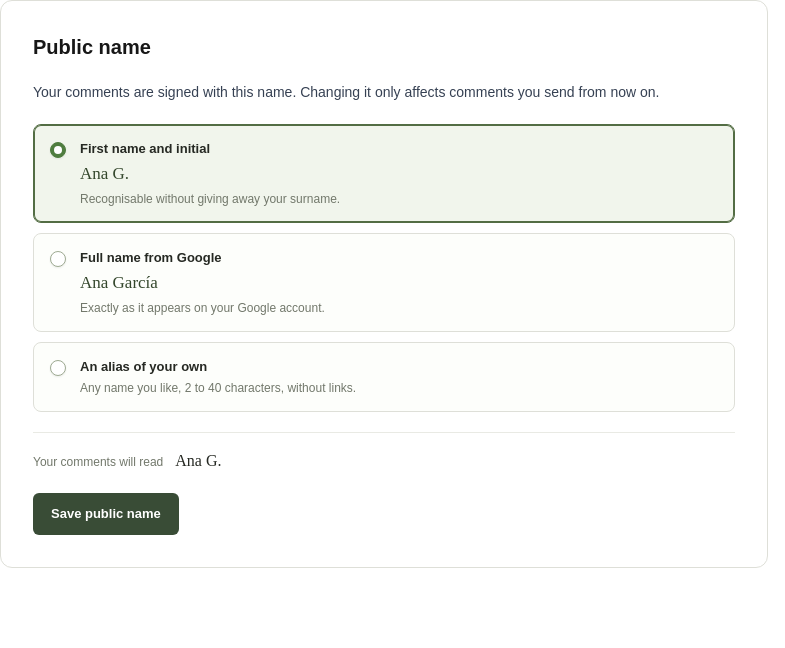
Test: PublicNameSettings › explains a refusal ({"name":"RateLimitError"})
Click the button "Save public name".
click(106, 514)  # box 33,493 -> 179,535
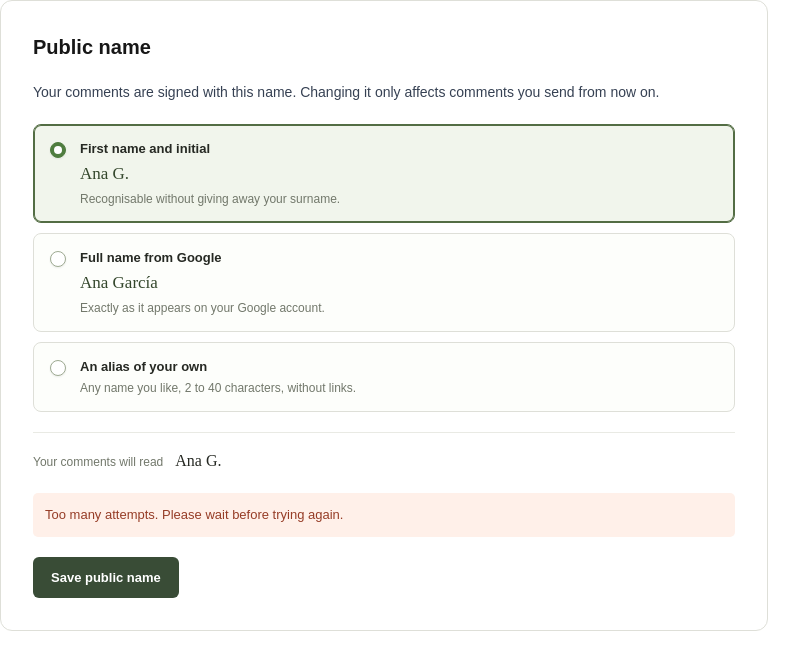
Now the message shows "Please wait", box 45,507 -> 343,522
